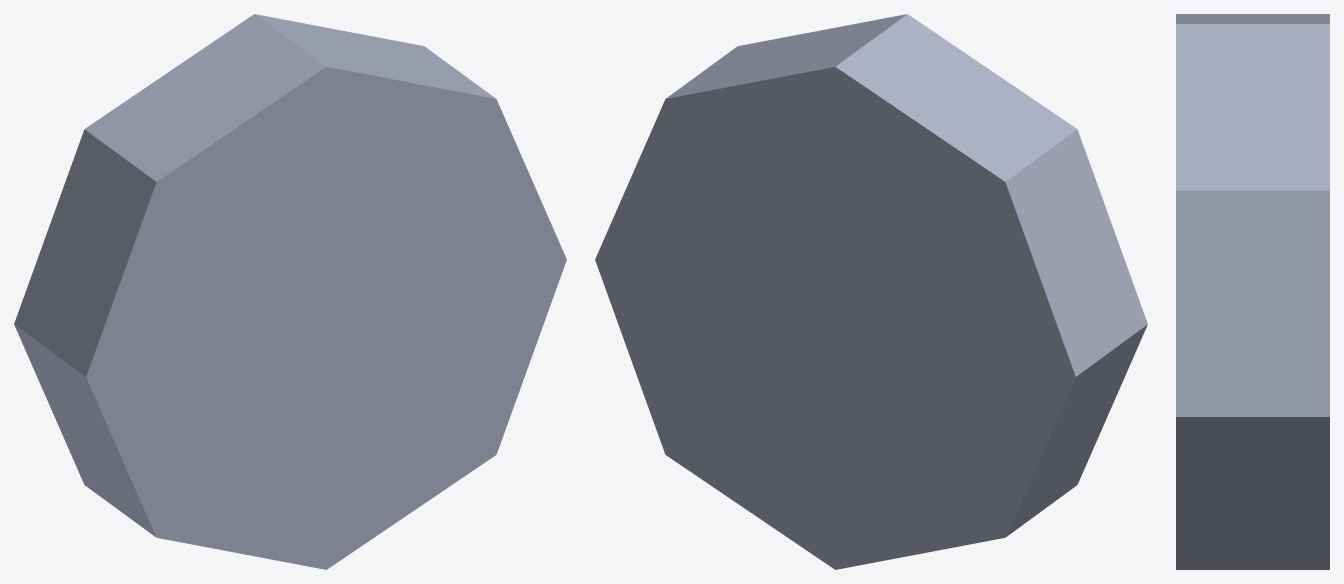
The model's file is docking_socket.obj.
The picture shows the model from 3 angles, left to right: view 1: azimuth 30°, elevation 25°; view 2: azimuth 150°, elevation 25°; view 3: azimuth 270°, elevation 25°; orthographic projection. The views are drawn at different scales.
Parts seen in each view (by area): view 1: Cylinder_001-mesh; view 2: Cylinder_001-mesh; view 3: Cylinder_001-mesh.
Boxes of the visible parts, x1=… form: Cylinder_001-mesh: x1=14, y1=14, x2=566, y2=569; Cylinder_001-mesh: x1=595, y1=14, x2=1147, y2=569; Cylinder_001-mesh: x1=1176, y1=14, x2=1329, y2=569.
Bounding box in the file's own units: 0.0816 × 0.0816 × 0.0212.
